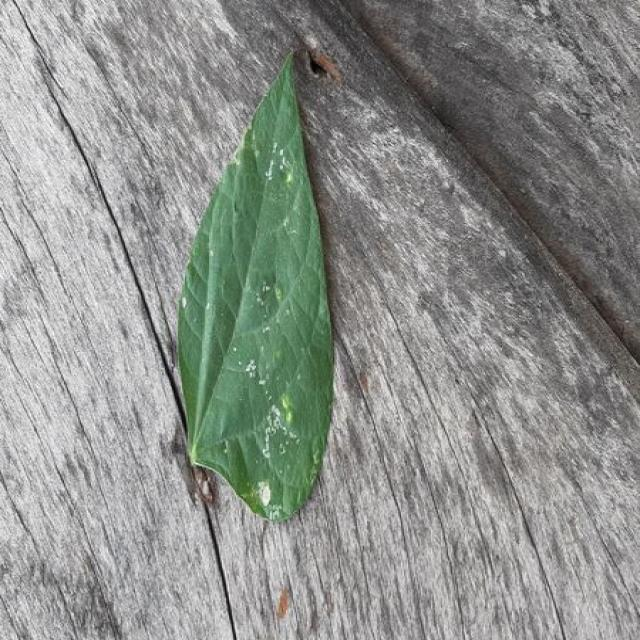beans: (178, 55, 333, 521)
defectedbeans: (207, 296, 333, 521)
